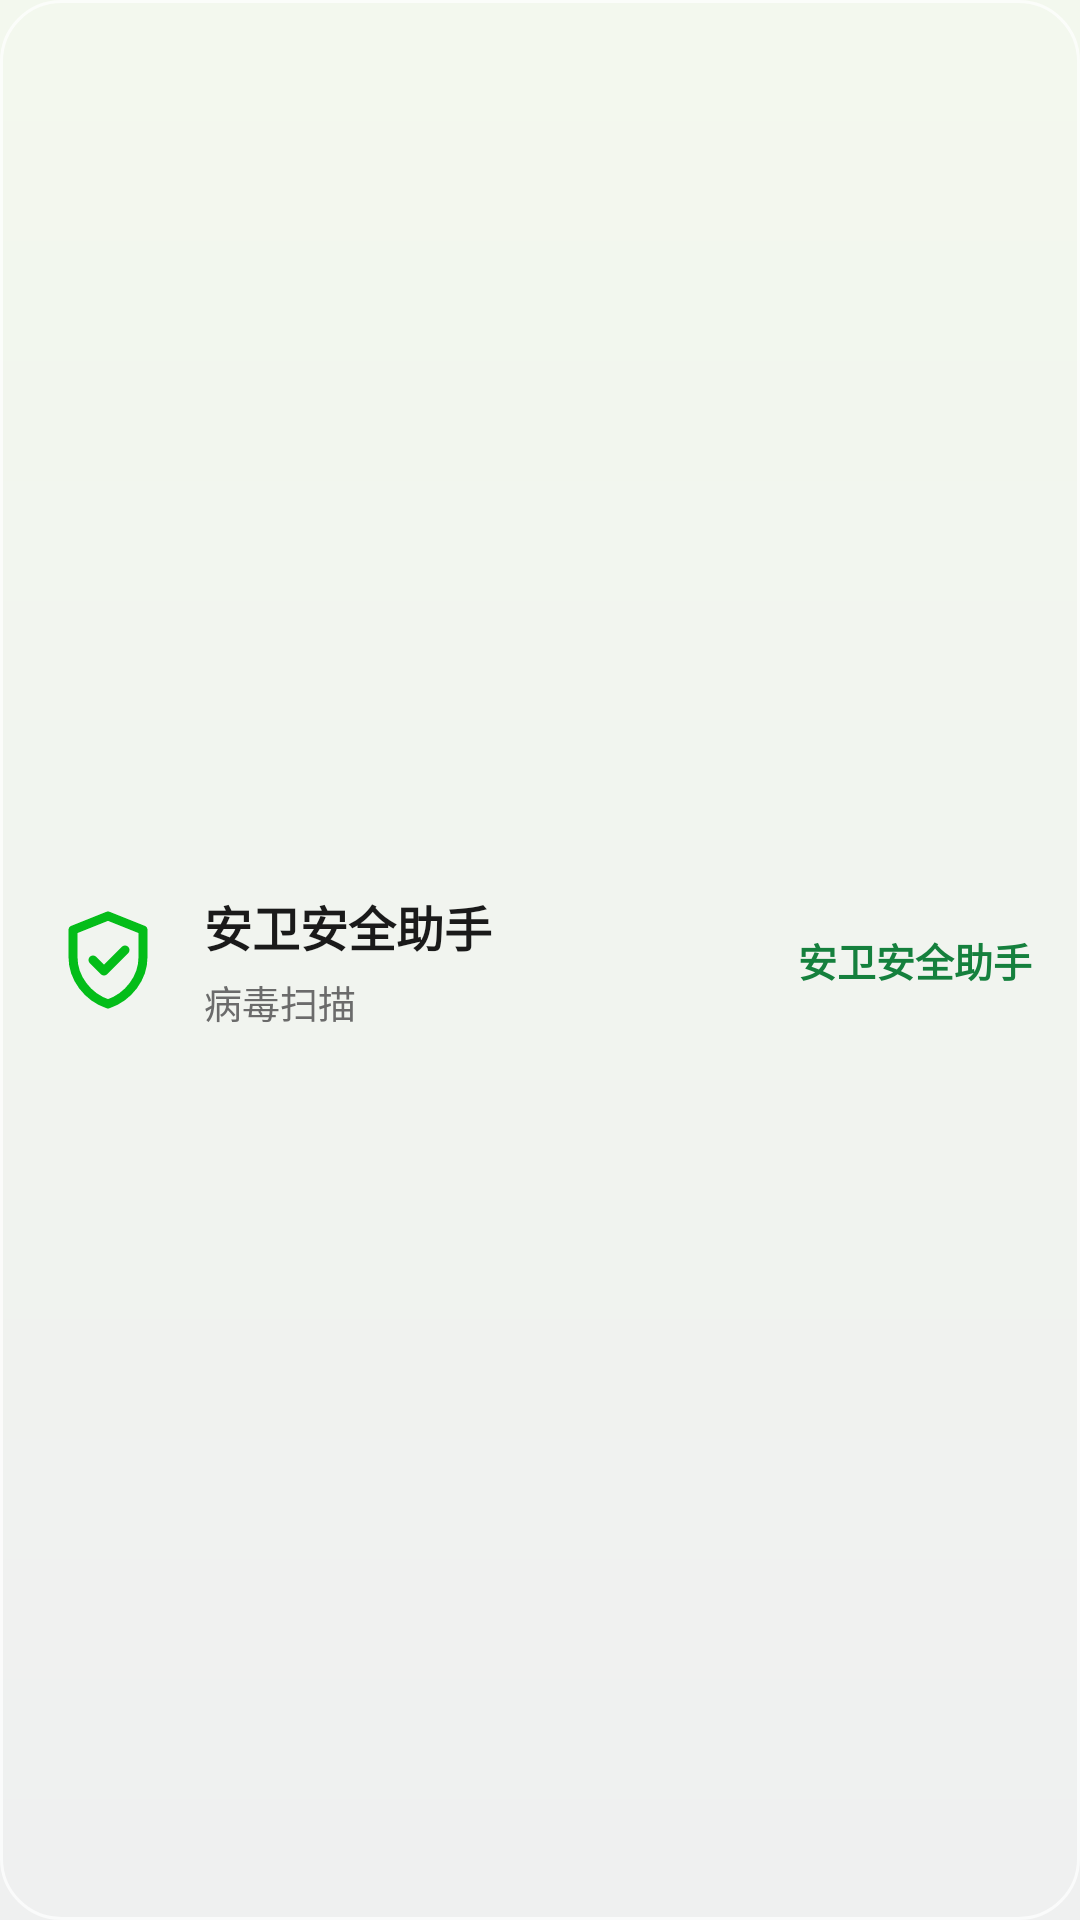

Screen size 1080px×1920px. Icon name, then its box in pixels as (x1, y1, x2, y2):
sd shield check: (68, 911, 148, 1009)
